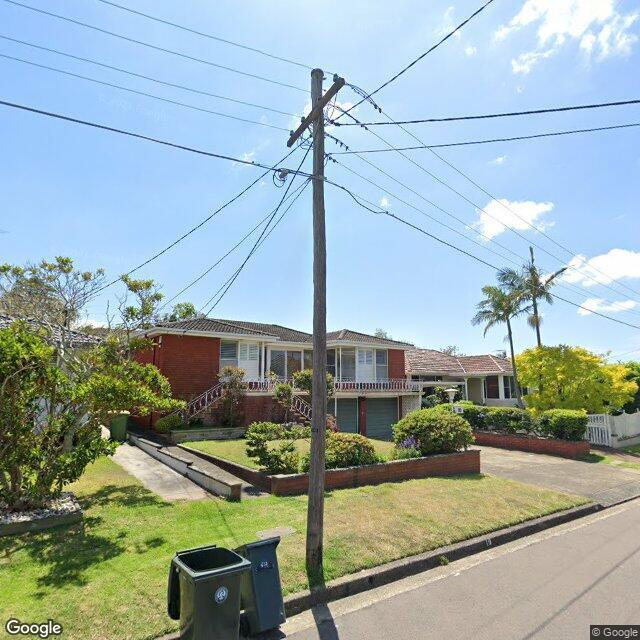crossarm: (286, 76, 346, 150)
timber-pole: (306, 68, 326, 570)
